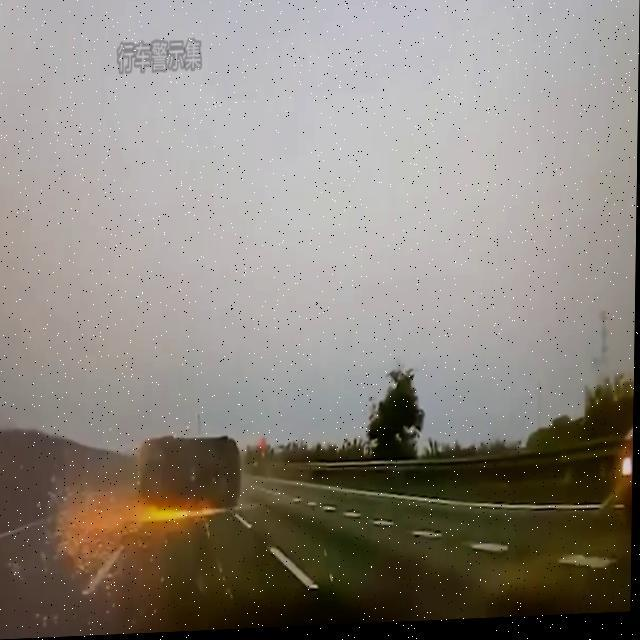single accident: (118, 390, 265, 537)
